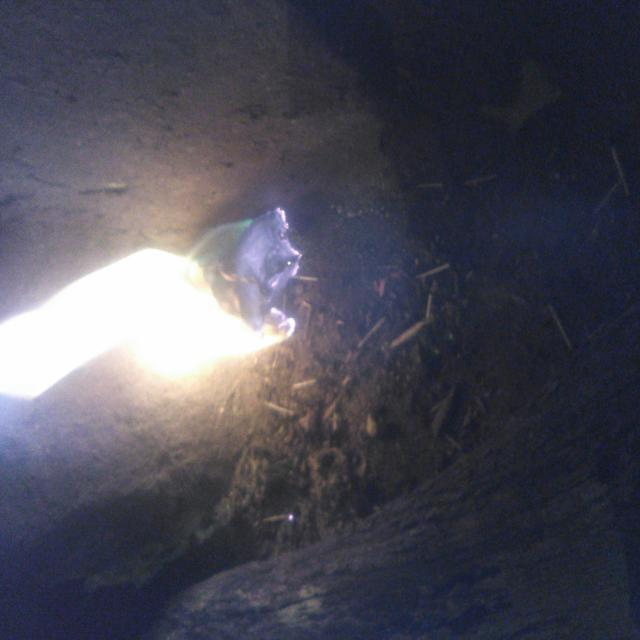Fire: (181, 3, 322, 403)
